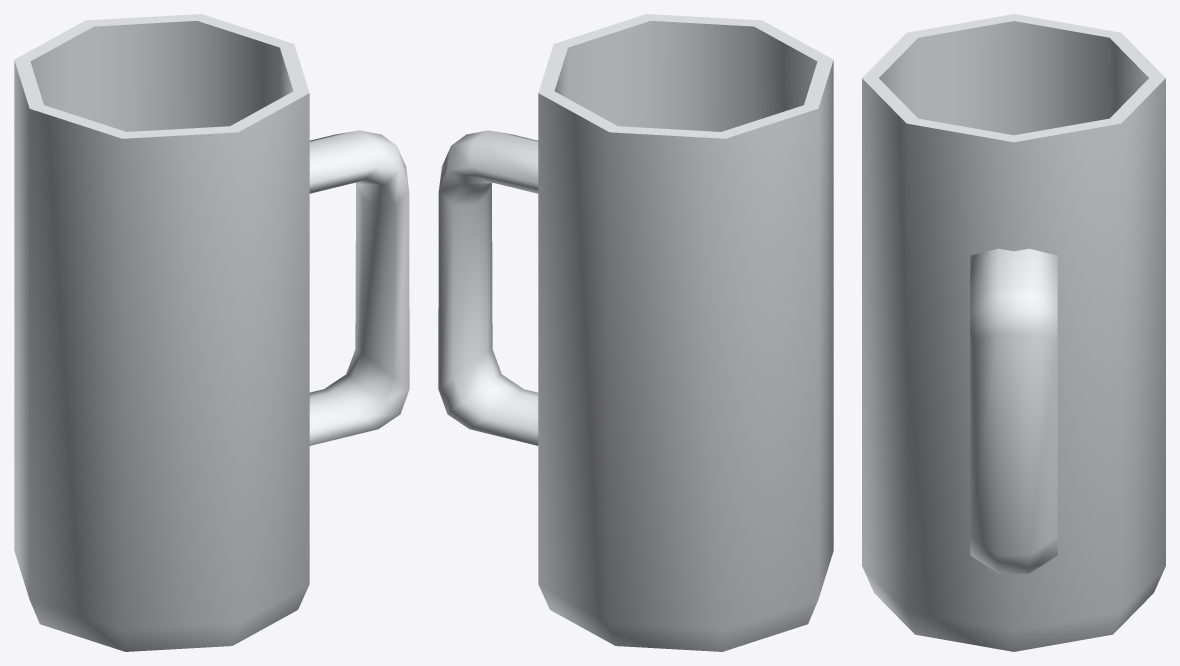
The model's file is Beer_Mug.glb.
3 views of the same model, side by side, from view 1: azimuth 30°, elevation 25°; view 2: azimuth 150°, elevation 25°; view 3: azimuth 270°, elevation 25° (orthographic).
Visible parts, largest first — view 1: sercups_beer_mug_Cylinder.101; view 2: sercups_beer_mug_Cylinder.101; view 3: sercups_beer_mug_Cylinder.101.
Boxes of the visible parts, left/top/right/bottom form: sercups_beer_mug_Cylinder.101: left=14, top=14, right=409, bottom=651; sercups_beer_mug_Cylinder.101: left=438, top=14, right=833, bottom=651; sercups_beer_mug_Cylinder.101: left=862, top=14, right=1165, bottom=651.
Size of the model in its own units: 2.05 by 2.75 by 1.47.
1 material, 1 textured.
